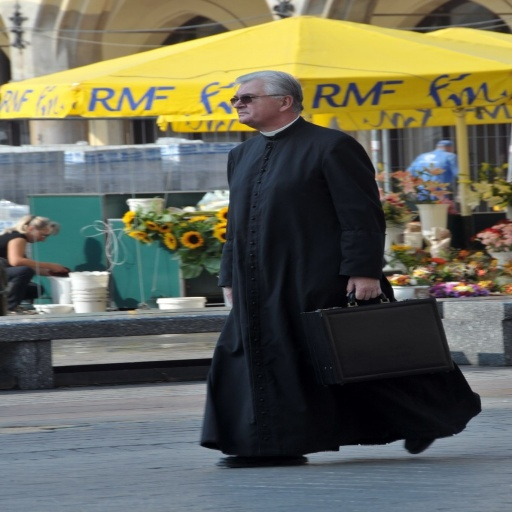hand: (340, 275, 391, 312), (218, 286, 234, 306), (48, 263, 71, 272)
